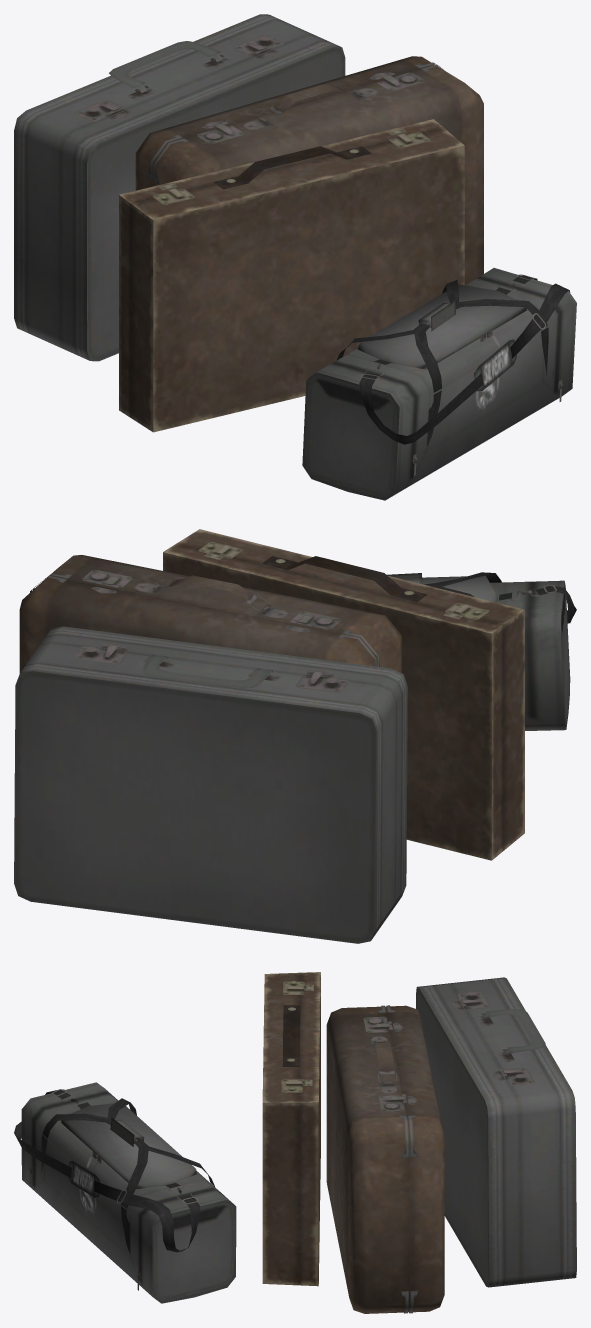
Rendered from ItemSpot.fbx.
3 views of the same model, one above another, from view 1: azimuth 30°, elevation 25°; view 2: azimuth 150°, elevation 25°; view 3: azimuth 270°, elevation 25° (orthographic). The views are drawn at different scales.
Parts seen in each view (by area): view 1: ItemBox_Suitcase_03, ItemBox_Suitcase_02, ItemBox_Bag_01, ItemBox_Suitcase_01; view 2: ItemBox_Suitcase_02, ItemBox_Suitcase_03, ItemBox_Suitcase_01, ItemBox_Bag_01; view 3: ItemBox_Suitcase_02, ItemBox_Suitcase_01, ItemBox_Bag_01, ItemBox_Suitcase_03.
Part boxes in pixels (bbox=[...]): ItemBox_Suitcase_03: bbox=[119, 119, 464, 432]; ItemBox_Suitcase_02: bbox=[14, 14, 345, 361]; ItemBox_Bag_01: bbox=[302, 268, 576, 500]; ItemBox_Suitcase_01: bbox=[135, 56, 483, 285]; ItemBox_Suitcase_02: bbox=[14, 626, 407, 943]; ItemBox_Suitcase_03: bbox=[163, 529, 524, 860]; ItemBox_Suitcase_01: bbox=[19, 555, 401, 673]; ItemBox_Bag_01: bbox=[387, 572, 576, 730]; ItemBox_Suitcase_02: bbox=[416, 977, 576, 1287]; ItemBox_Suitcase_01: bbox=[326, 1005, 444, 1313]; ItemBox_Bag_01: bbox=[14, 1082, 236, 1303]; ItemBox_Suitcase_03: bbox=[262, 972, 320, 1286].
Bounding box in the file's own units: 1.22 × 0.724 × 1.81.
Materials: 1 (1 with a texture image).
